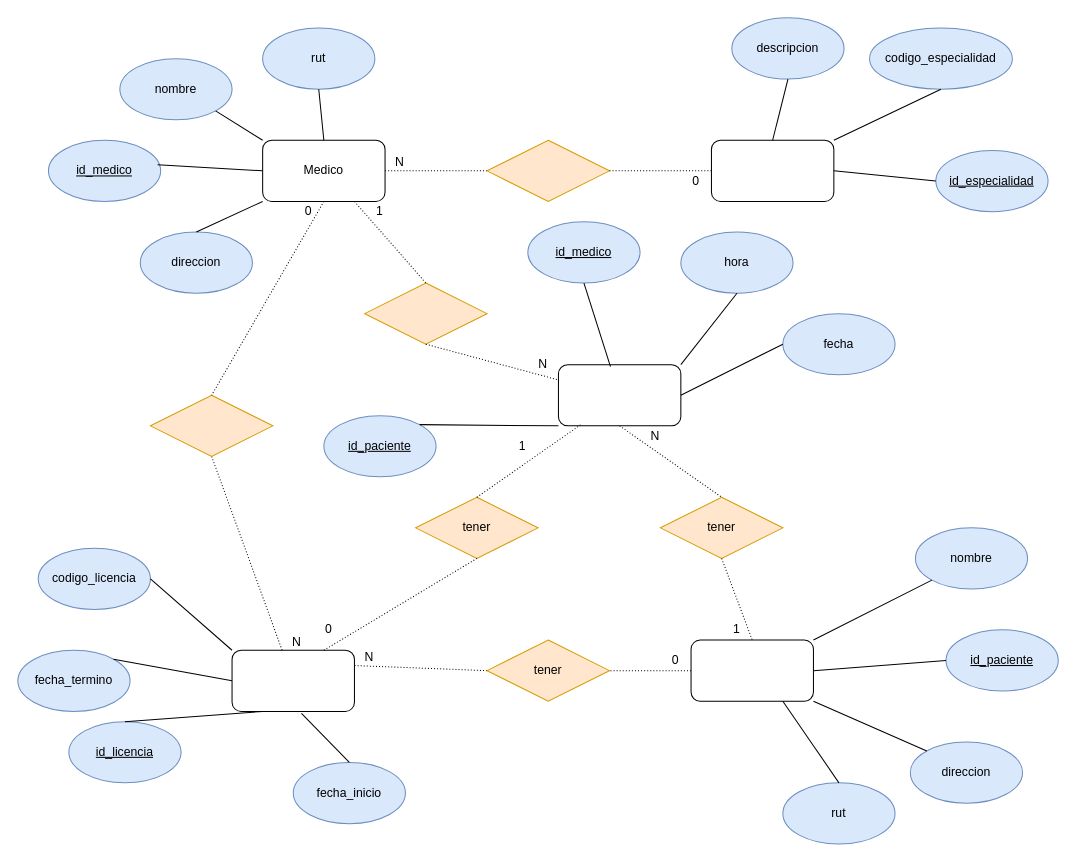
Image size: 1076x862. Some labels were removed from this diagram. The shapes that lost their labels are listed below. From the top down, each one's centre as x and y in pixels, then its label:
point (547, 170): tiene
point (772, 170): Especialidad
point (425, 313): realizar
point (619, 395): Consulta
point (211, 425): Emite
point (292, 680): Licencia
point (751, 670): Paciente
